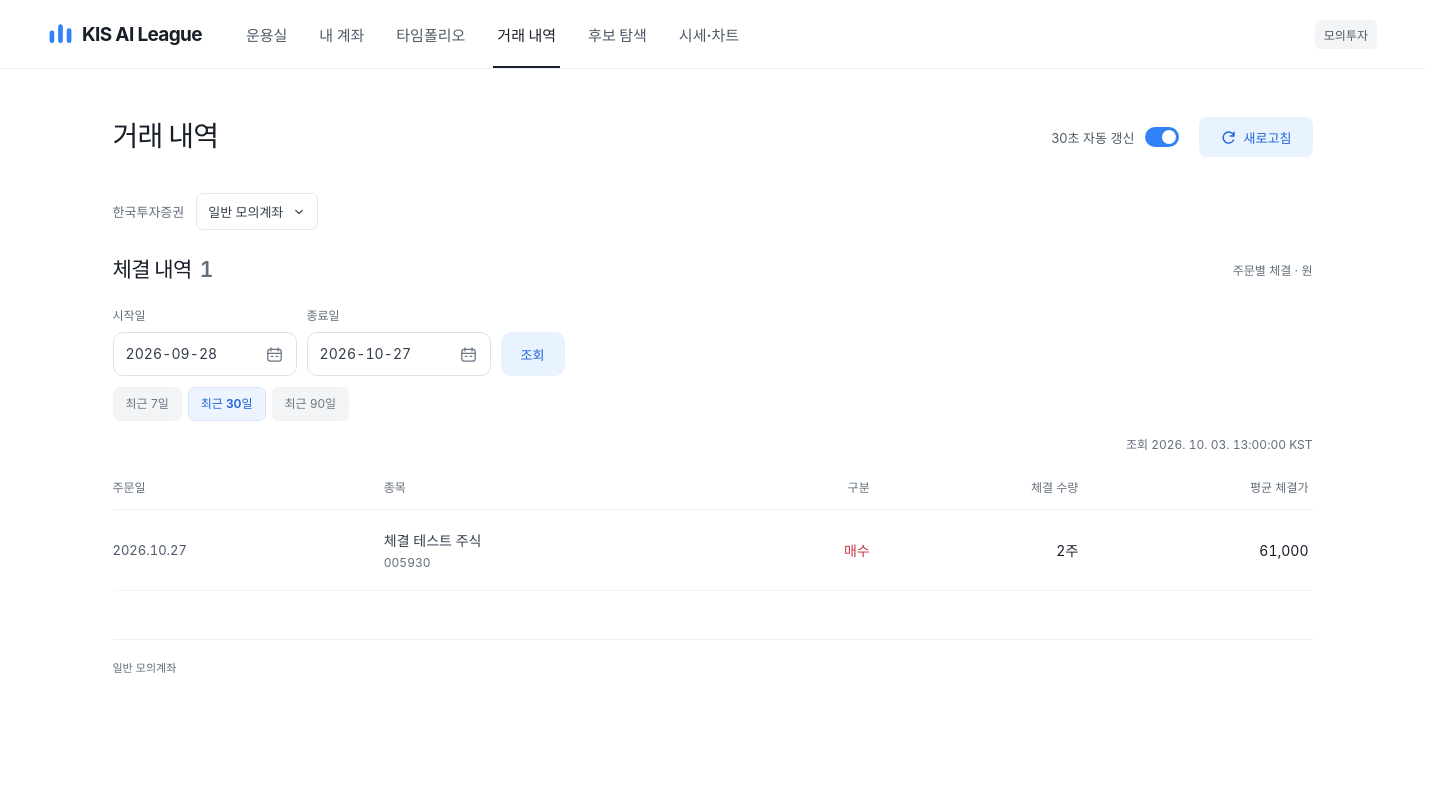
trade history › clears trades on account switch and ignores the late previous response
This screenshot has width=1440, height=810.
Click the button "새로고침".
click(1256, 137)  # box 1198,117 -> 1312,157
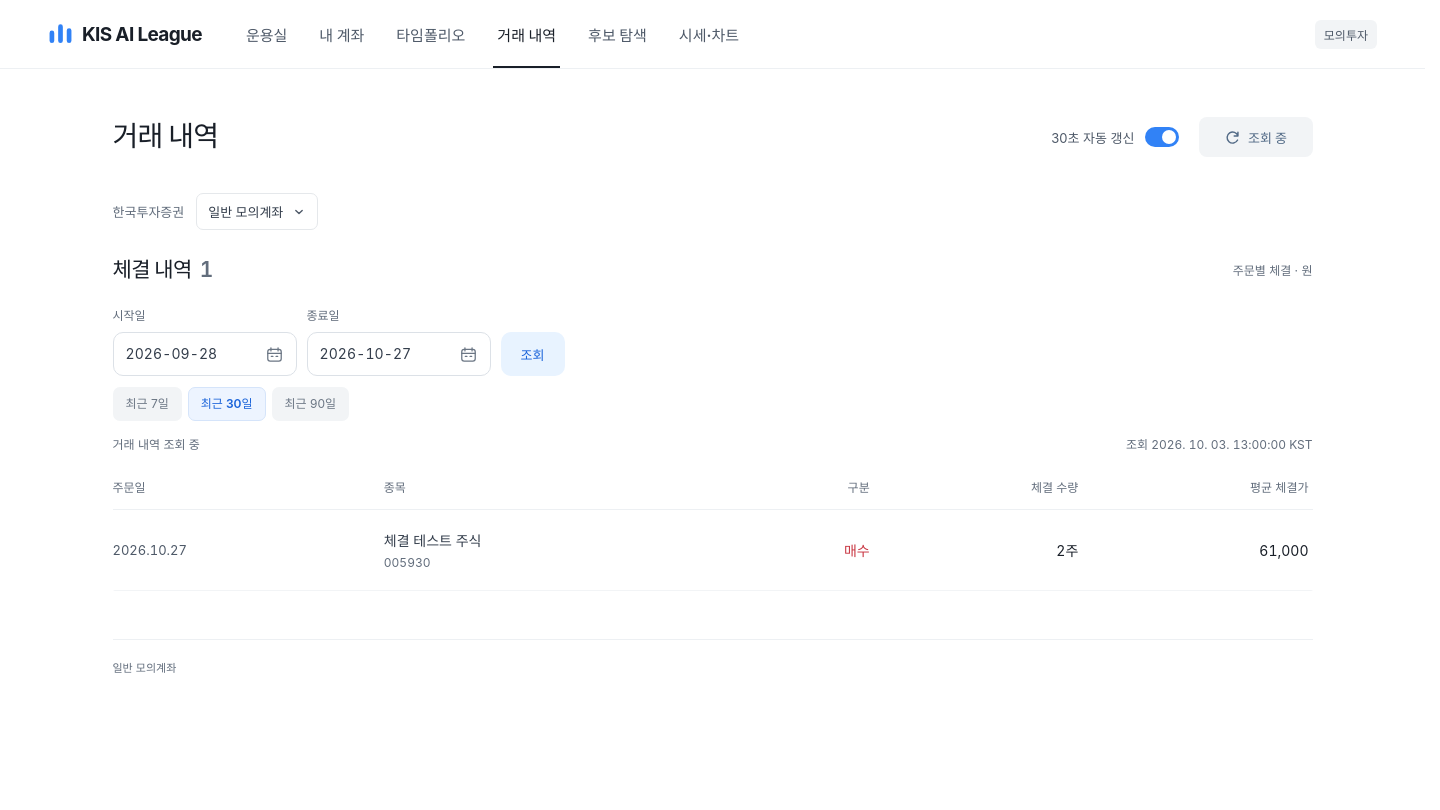
Click the dropdown.
click(257, 212)  # box 196,193 -> 318,230
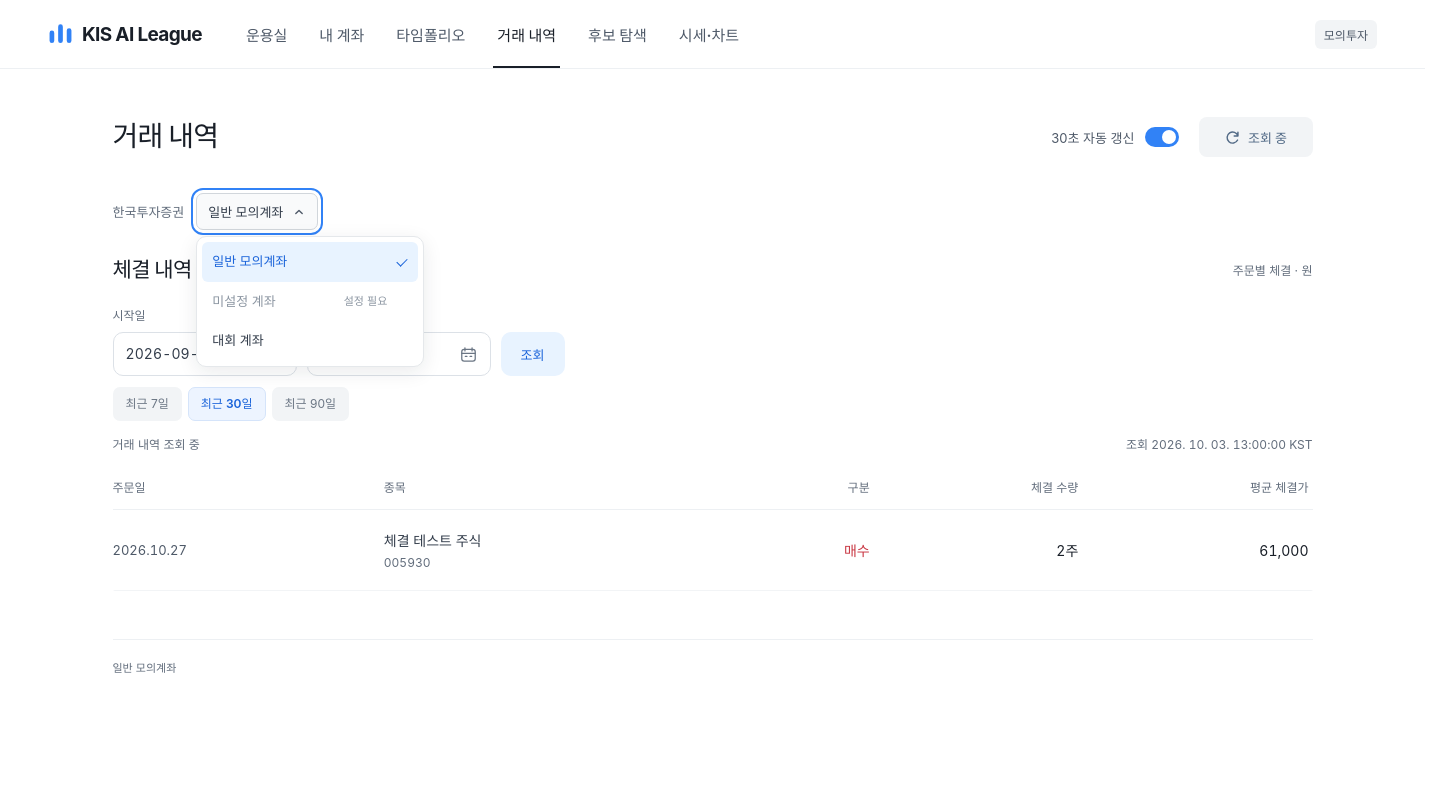
Click the option "대회 계좌".
click(238, 340)  # box 212,332 -> 264,348
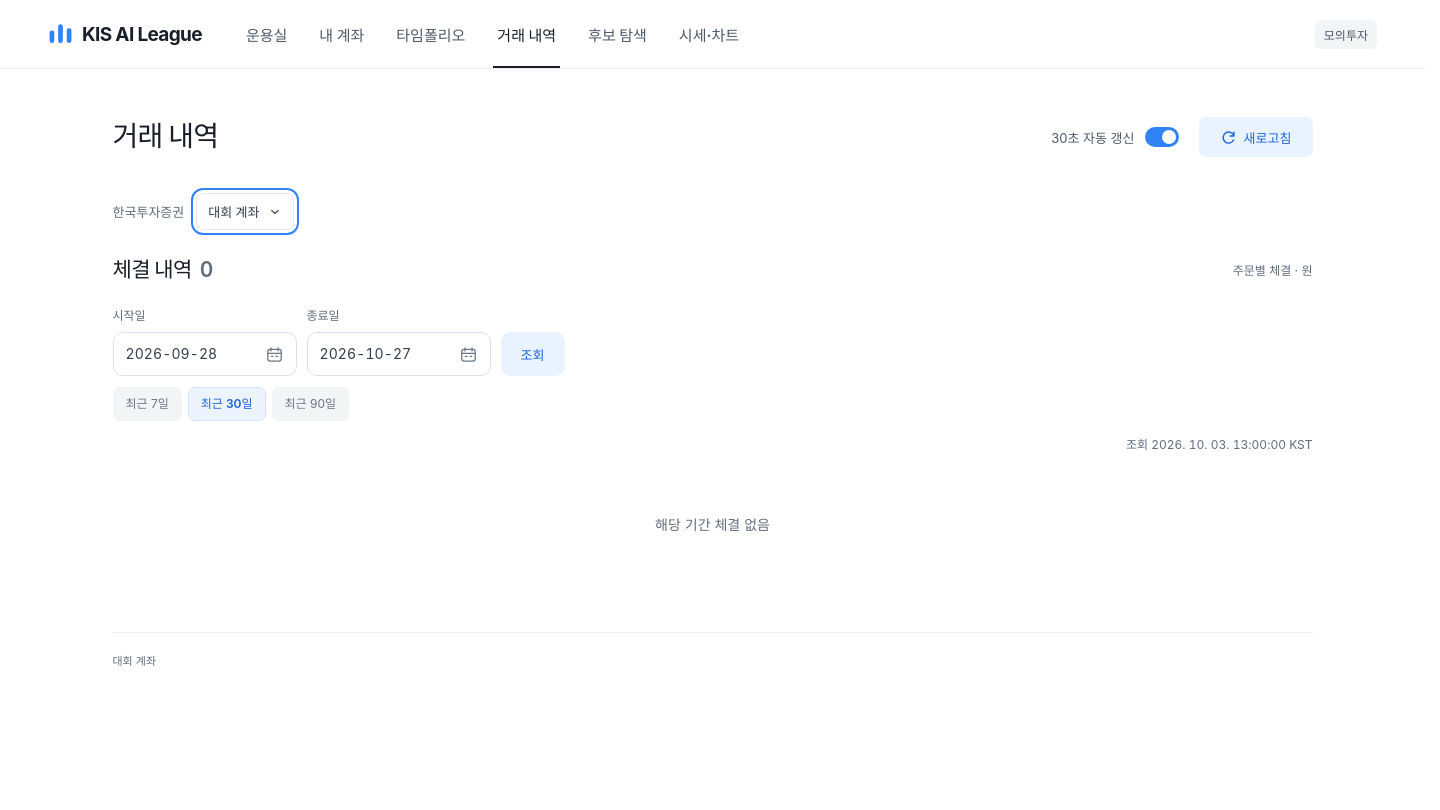
Expected: the text with id "trades-count" reads "0", 200,257 -> 213,282
